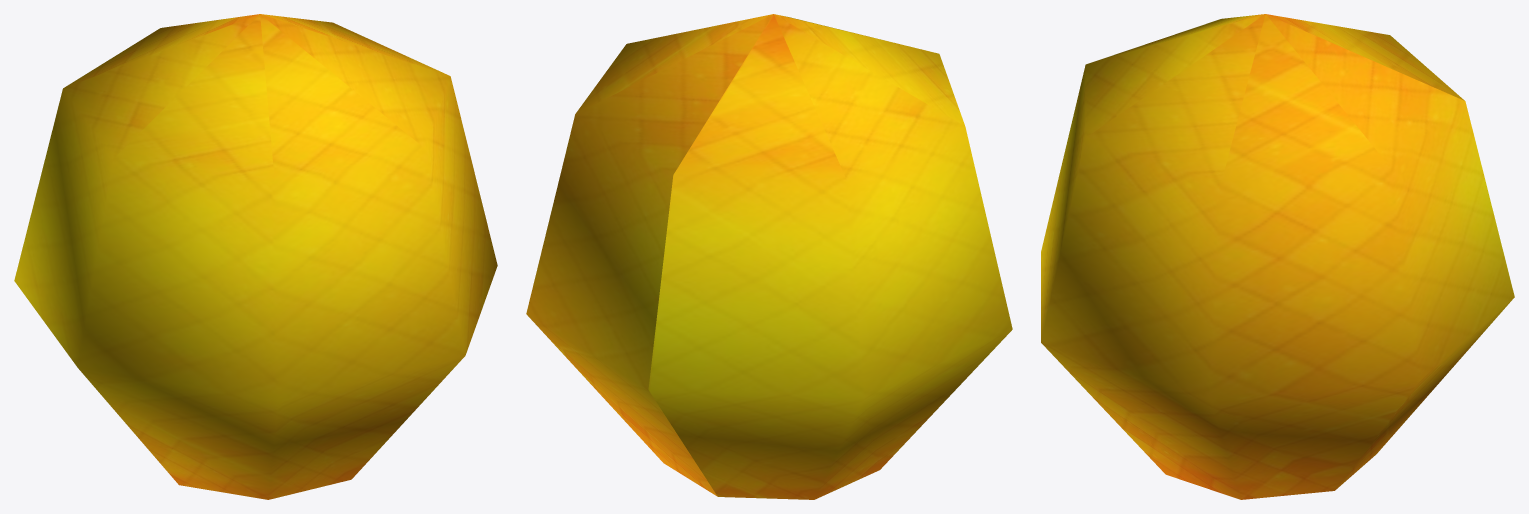
Rendered from punto.obj.
3 renders of one model, left to right at view 1: azimuth 30°, elevation 25°; view 2: azimuth 150°, elevation 25°; view 3: azimuth 270°, elevation 25°, orthographic.
Visible parts, largest first — view 1: Sphere073; view 2: Sphere073; view 3: Sphere073.
Boxes of the visible parts, box(x1,y1,x2,y2) form: Sphere073: box(14, 14, 497, 499); Sphere073: box(526, 14, 1012, 499); Sphere073: box(1041, 14, 1514, 499).
Bounding box in the file's own units: 0.7604 × 0.7996 × 0.7414.
Materials: 1 (1 with a texture image).
